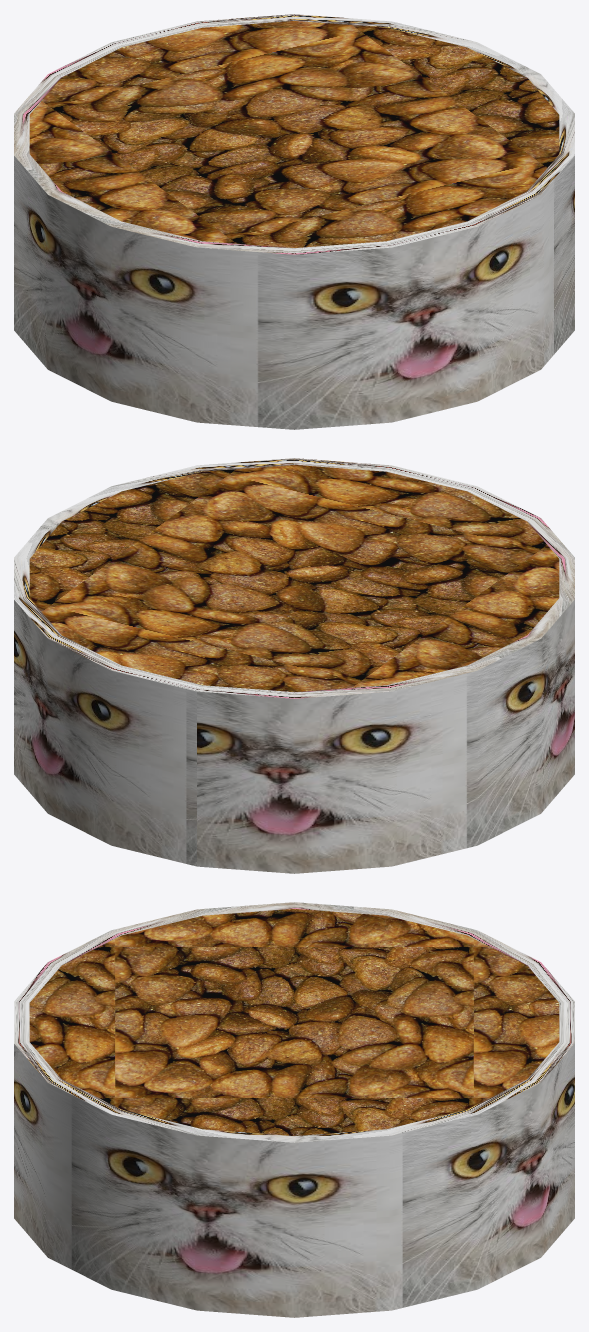
The model's file is CatFood.FBX.
3 renders of one model, top to bottom at view 1: azimuth 30°, elevation 25°; view 2: azimuth 150°, elevation 25°; view 3: azimuth 270°, elevation 25°, orthographic.
Parts seen in each view (by area): view 1: CatFood; view 2: CatFood; view 3: CatFood.
Boxes of the visible parts, <box> form: CatFood: <box>14,14,574,429</box>; CatFood: <box>14,458,574,873</box>; CatFood: <box>14,902,574,1317</box>.
Bounding box in the file's own units: 19.34 × 6.56 × 19.04.
2 materials, 2 textured.
